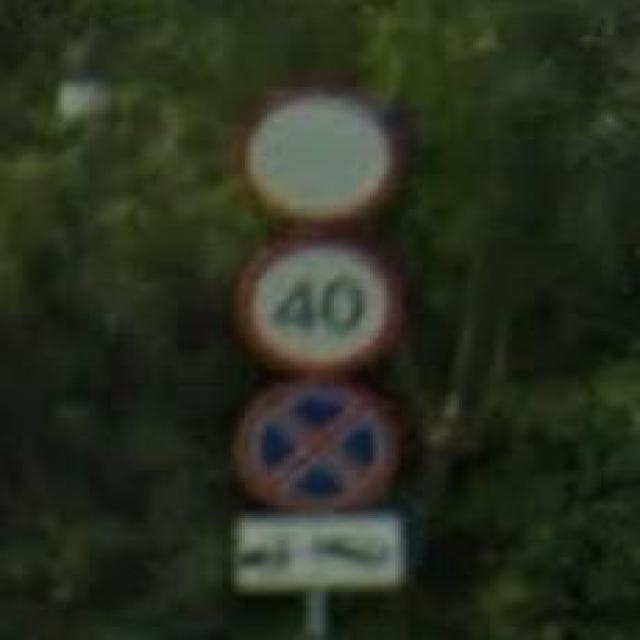Ograniczenie predkosci do 40: (236, 235, 406, 385)
